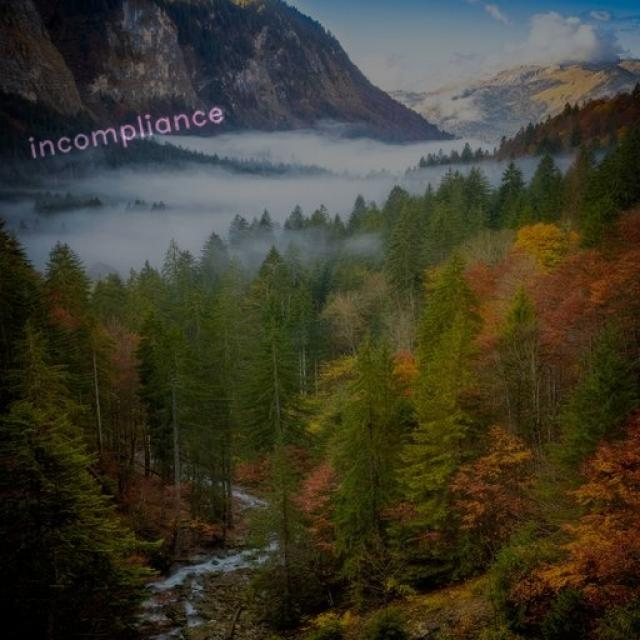watermark: (22, 96, 225, 162)
